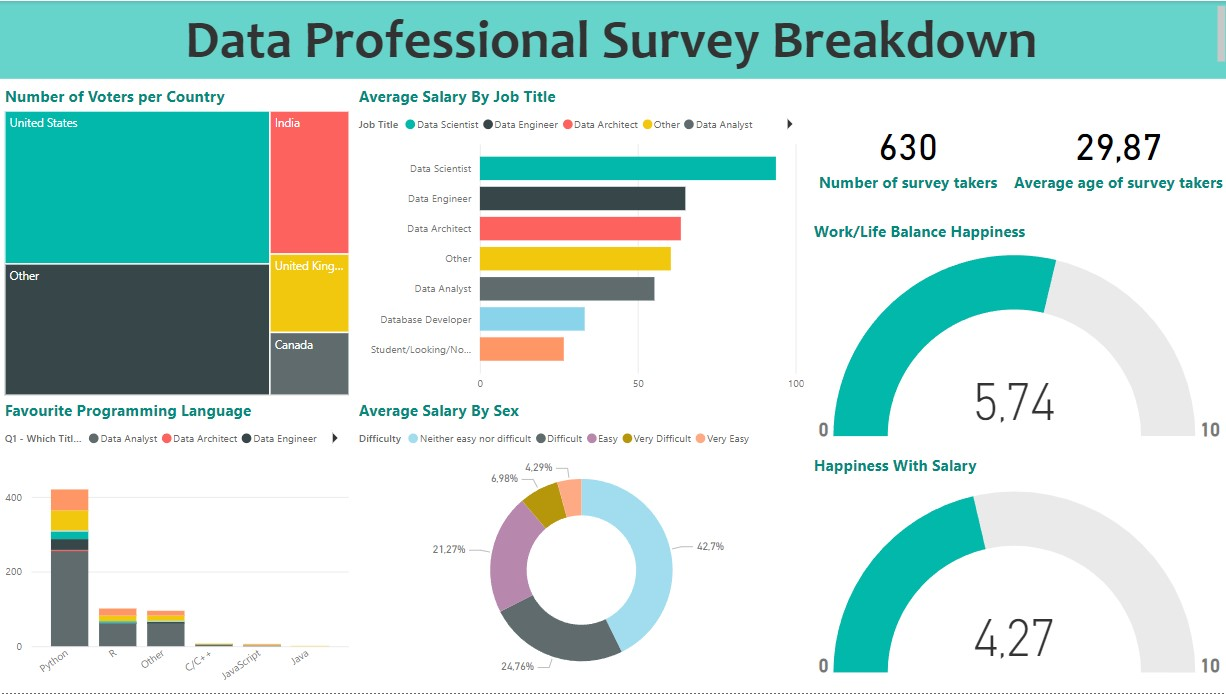

The dashboard page shown, as its layout file describes it:
{"tool":"powerbi","page":{"name":"Strona 1","canvas":[1280,720],"ordinal":0},"visuals":[{"type":"textbox","box":[0,0,1280,80.7],"z":0},{"type":"card","fields":{"Values":["CountNonNull(Data Professional Survey.Unique ID)"]},"box":[841.9,88.5,206,140.5],"z":1000},{"type":"card","fields":{"Values":["Avg(Data Professional Survey.Q10 - Current Age)"]},"box":[1047.9,88.5,232.1,140.5],"z":2000},{"type":"barChart","title":"Average Salary By Job Title","fields":{"Category":["Data Professional Survey.Q1 - Which Title Best Fits your Current Role?.1"],"Y":["Avg(Data Professional Survey.Average Salary)"],"Series":["Data Professional Survey.Q1 - Which Title Best Fits your Current Role?.1"]},"box":[368.4,88.5,473.5,326.8],"z":3000},{"type":"columnChart","title":"Favourite Programming Language","fields":{"Category":["Data Professional Survey.Q5 - Favorite Programming Language.1"],"Y":["CountNonNull(Data Professional Survey.Unique ID)"],"Series":["Data Professional Survey.Q1 - Which Title Best Fits your Current Role?.1"]},"box":[0,415.2,368.4,304.9],"z":4000},{"type":"treemap","title":"Number of Voters per Country","fields":{"Group":["Data Professional Survey.Q11 - Which Country do you live in?.1"],"Values":["CountNonNull(Data Professional Survey.Q11 - Which Country do you live in?.1)"]},"box":[0,88.5,368.4,326.8],"z":5000},{"type":"gauge","title":"Work/Life Balance Happiness","fields":{"Y":["Avg(Data Professional Survey.Q6 - How Happy are you in your Current Position with the following? (Work/Life Balance))"],"MinValue":["Min(Data Professional Survey.Q6 - How Happy are you in your Current Position with the following? (Work/Life Balance))"],"MaxValue":["Max(Data Professional Survey.Q6 - How Happy are you in your Current Position with the following? (Work/Life Balance))1"]},"box":[842.2,229,437.8,243.4],"z":6000},{"type":"gauge","title":"Happiness With Salary","fields":{"Y":["Avg(Data Professional Survey.Q6 - How Happy are you in your Current Position with the following? (Salary))"],"MinValue":["Min(Data Professional Survey.Q6 - How Happy are you in your Current Position with the following? (Salary))"],"MaxValue":["Max(Data Professional Survey.Q6 - How Happy are you in your Current Position with the following? (Salary))"]},"box":[842.2,472.3,437.8,248.1],"z":7000},{"type":"donutChart","title":"Average Salary By Sex","fields":{"Category":["Data Professional Survey.Q7 - How difficult was it for you to break into Data?"],"Y":["CountNonNull(Data Professional Survey.Q7 - How difficult was it for you to break into Data?)"]},"box":[368.9,414.9,473.3,305.6],"z":8000}]}

Visuals, with their boxes in screenshot pixels (x1, y1, x2, y2), scaled from the page's 1280x720 canvas onto the 1226x694 screenshot:
textbox: {"left": 0, "top": 0, "right": 1225, "bottom": 78}
card - CountNonNull(Data Professional Survey.Unique ID): {"left": 806, "top": 85, "right": 1004, "bottom": 221}
card - Avg(Data Professional Survey.Q10 - Current Age): {"left": 1004, "top": 85, "right": 1225, "bottom": 221}
"Average Salary By Job Title" barChart: {"left": 353, "top": 85, "right": 806, "bottom": 400}
"Favourite Programming Language" columnChart: {"left": 0, "top": 400, "right": 353, "bottom": 693}
"Number of Voters per Country" treemap: {"left": 0, "top": 85, "right": 353, "bottom": 400}
"Work/Life Balance Happiness" gauge: {"left": 807, "top": 221, "right": 1225, "bottom": 455}
"Happiness With Salary" gauge: {"left": 807, "top": 455, "right": 1225, "bottom": 693}
"Average Salary By Sex" donutChart: {"left": 353, "top": 400, "right": 807, "bottom": 693}
